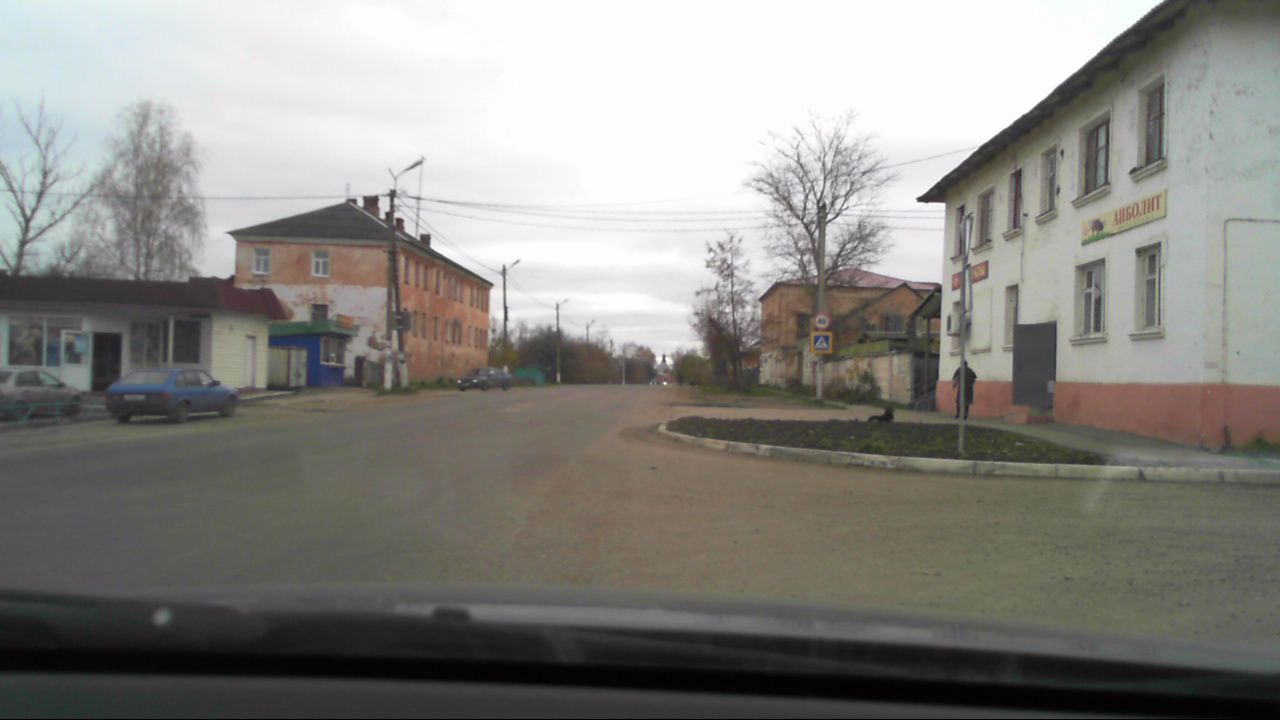speed_warning_40: (812, 310, 832, 330)
